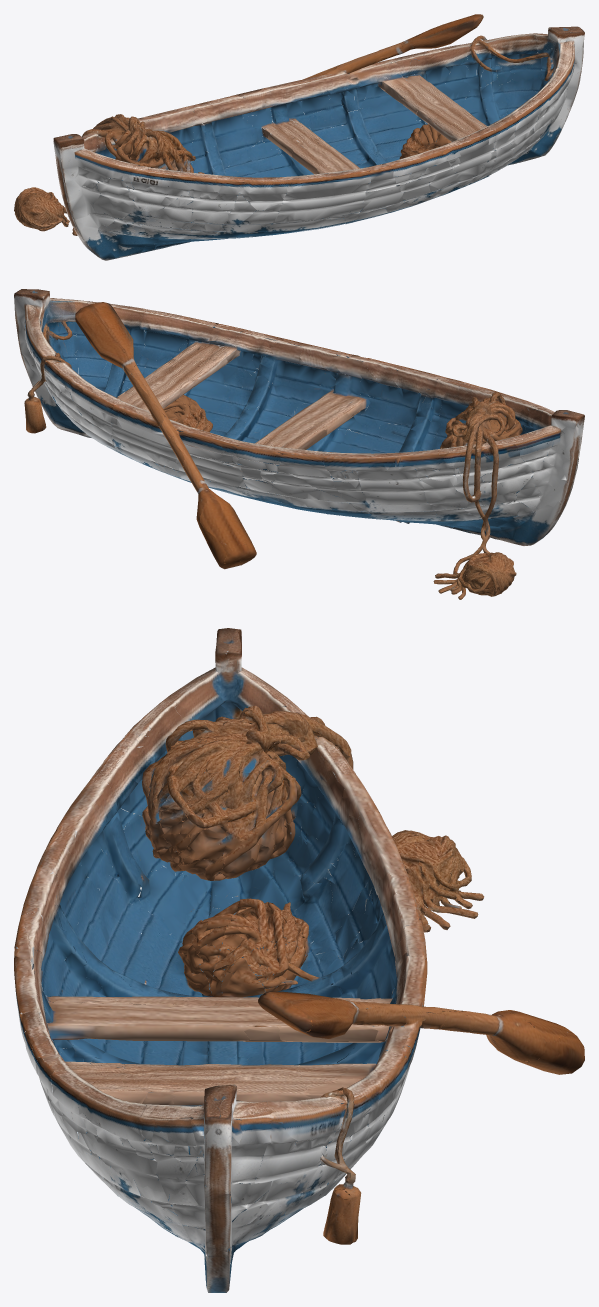
Rendered from barca_pesca_lod2.glb.
The picture shows the model from 3 angles, top to bottom: view 1: azimuth 30°, elevation 25°; view 2: azimuth 150°, elevation 25°; view 3: azimuth 270°, elevation 25°; orthographic projection. The views are drawn at different scales.
Visible parts, largest first — view 1: Mesh_0; view 2: Mesh_0; view 3: Mesh_0.
Part boxes in pixels (<box>): Mesh_0: <box>14,14,584,260</box>; Mesh_0: <box>14,289,584,599</box>; Mesh_0: <box>14,628,584,1292</box>.
Bounding box in the file's own units: 2.77 × 0.7006 × 1.44.
Materials: 1 (1 with a texture image).
